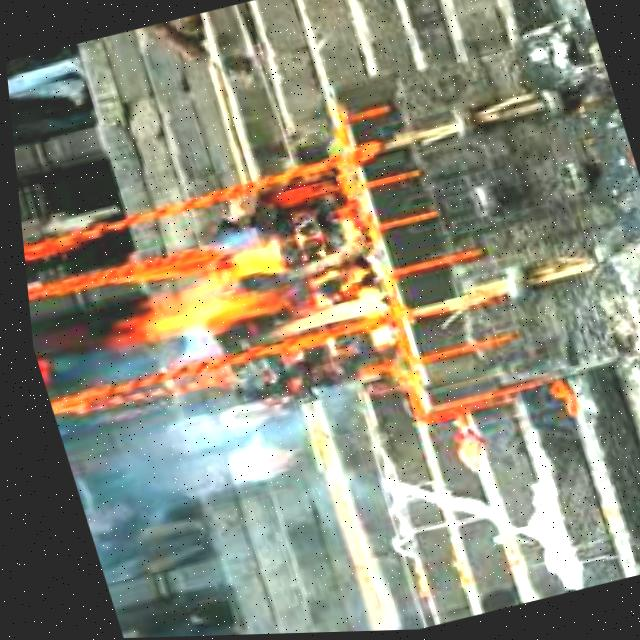Fire: (71, 216, 392, 397)
